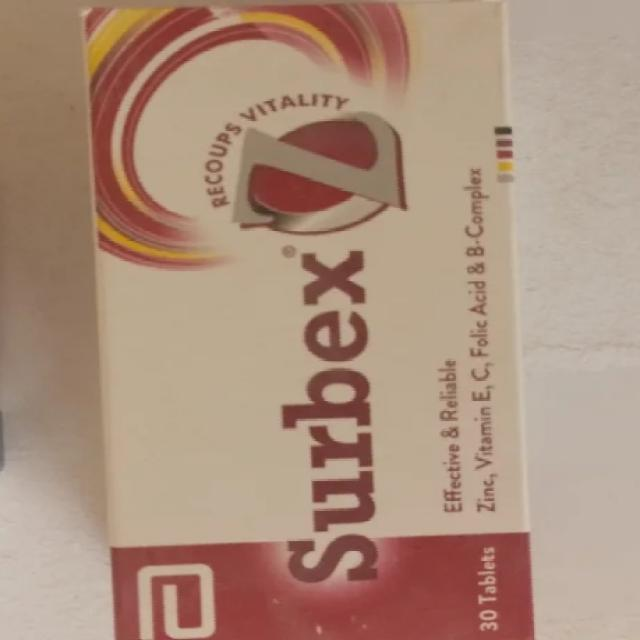drug-name: (281, 245, 389, 587)
